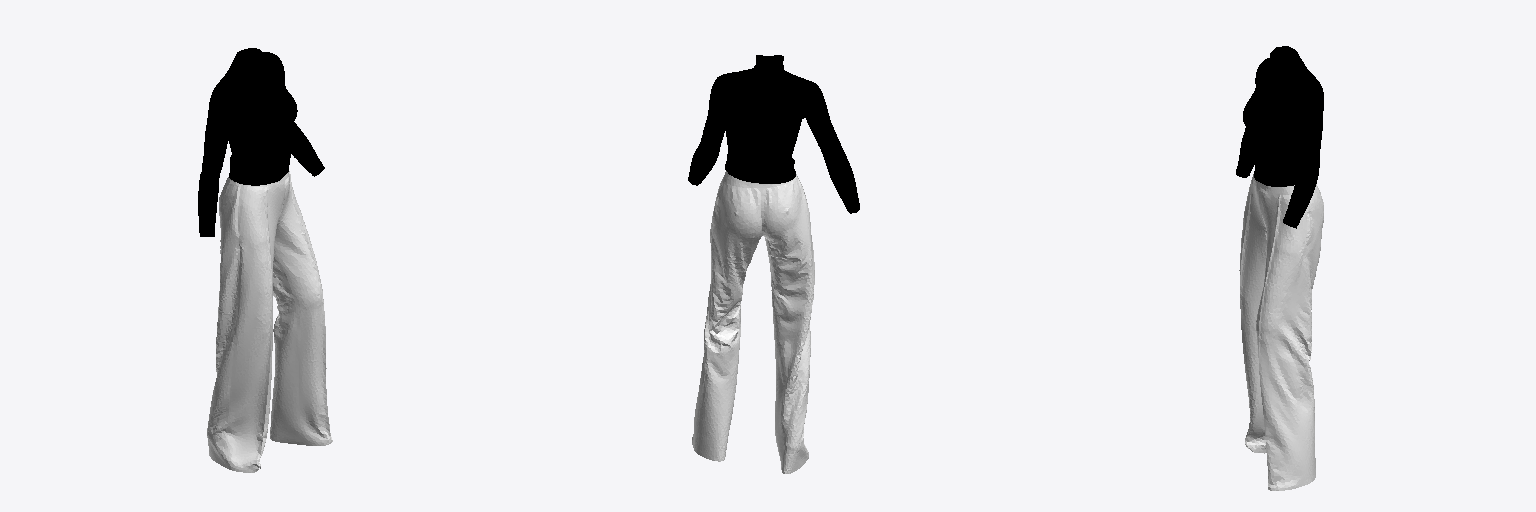
File: DA_HighNeck+WidePants_0000116.obj
3 views of the same model, side by side, from view 1: azimuth 30°, elevation 25°; view 2: azimuth 150°, elevation 25°; view 3: azimuth 270°, elevation 25° (orthographic).
Bounding box in the file's own units: 0.6212 × 1.63 × 0.3247.